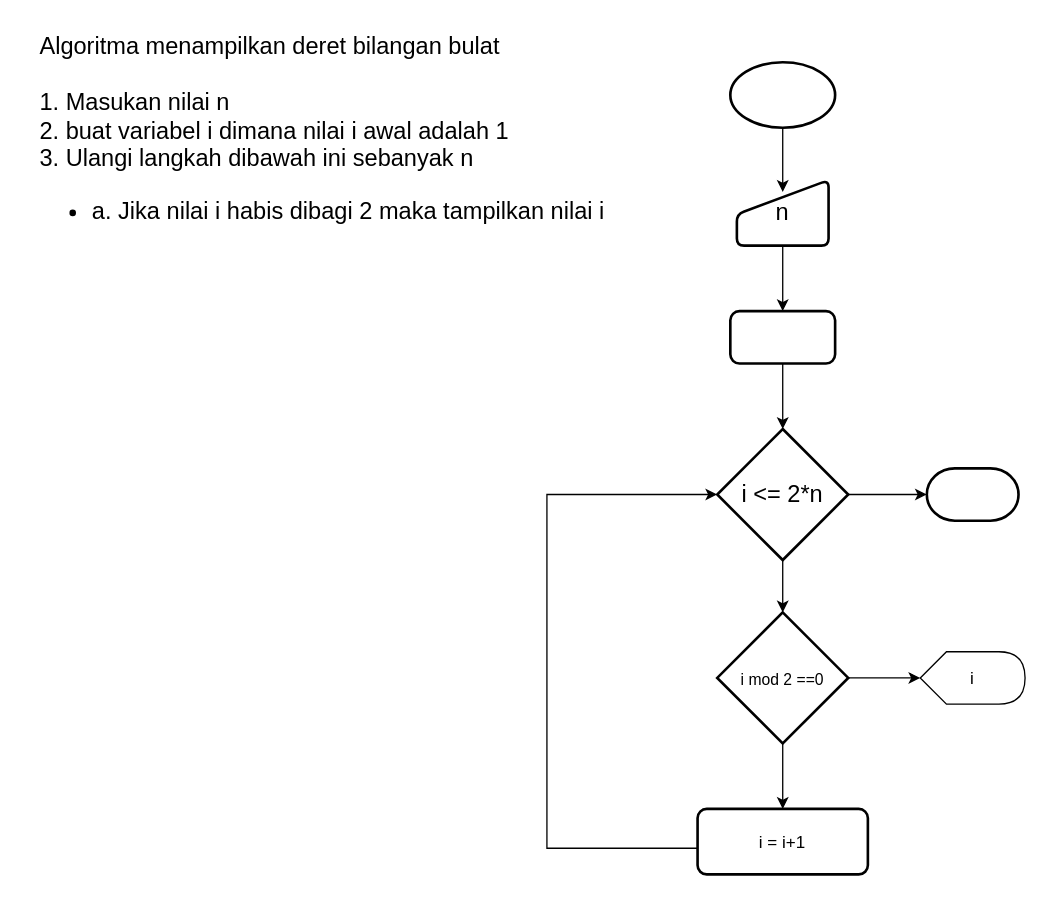
Image size: 1048x897. Some labels were removed from this diagram. Here are the shapes that lost their labels. From the top down, the centre of each, then its label:
At point (782, 94): "Mulai".
At point (782, 336): "i = 1".
At point (972, 493): "Selesai".
